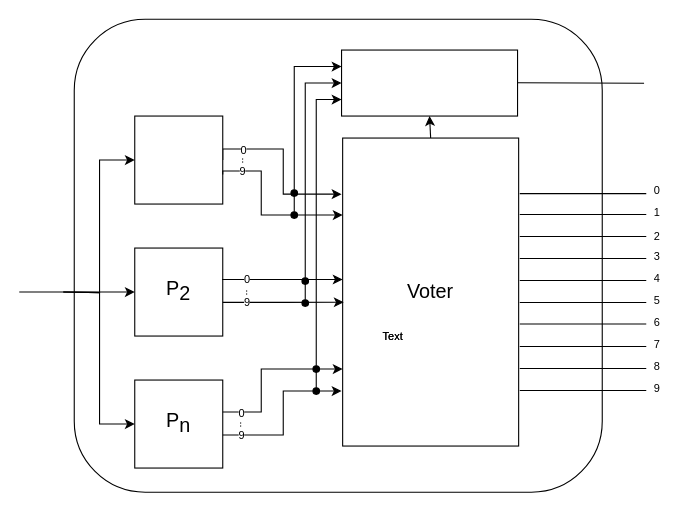
Image size: 699x512. Some labels were removed from this diagram. Here are the shapes that lost their labels. From the top down, the box of each, then its label:
(340, 49, 518, 116): Explanation
(134, 115, 223, 204): P 1
